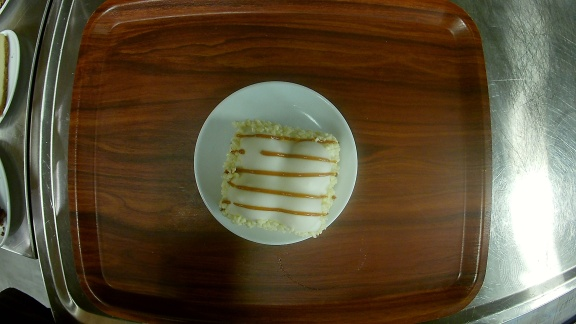beyazpasta: (194, 81, 360, 244)
